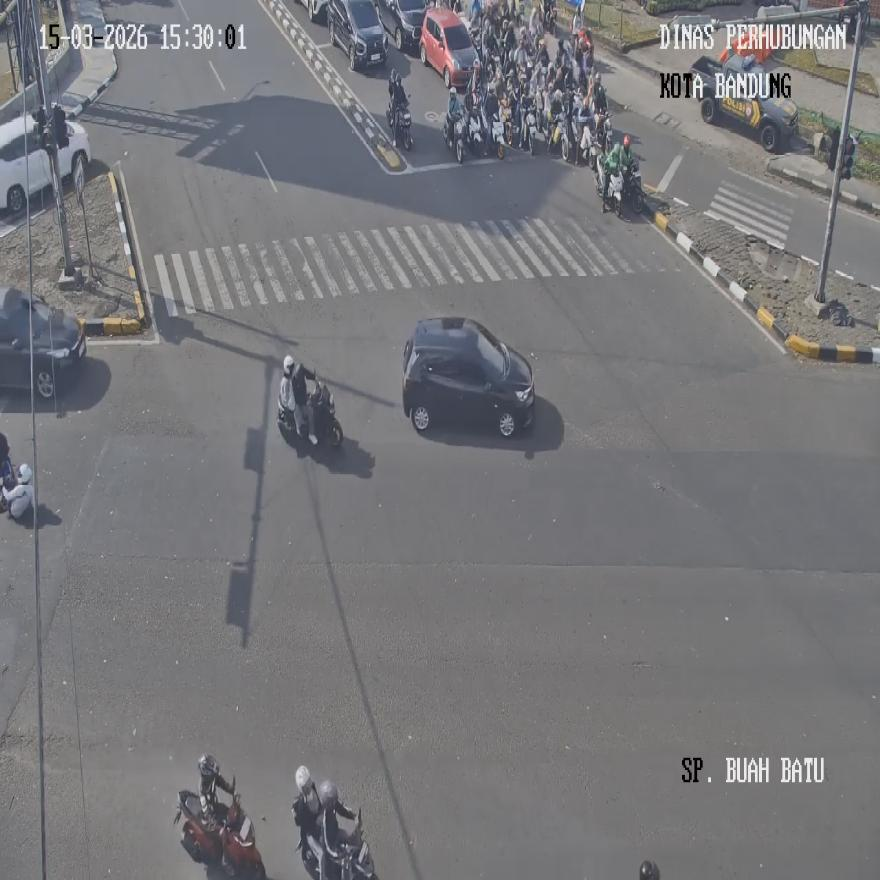Motor: (402, 316, 534, 436), (689, 49, 798, 150), (0, 111, 91, 218), (0, 285, 86, 398), (422, 6, 478, 89), (328, 0, 387, 71)
Truk: (175, 790, 264, 878), (297, 805, 374, 880), (276, 378, 342, 448), (0, 462, 33, 518), (388, 98, 412, 152), (622, 161, 644, 215), (551, 112, 573, 161), (602, 162, 622, 212), (444, 112, 464, 161), (579, 120, 598, 167), (465, 111, 484, 154), (522, 108, 538, 155), (490, 114, 506, 160), (542, 0, 558, 33)
